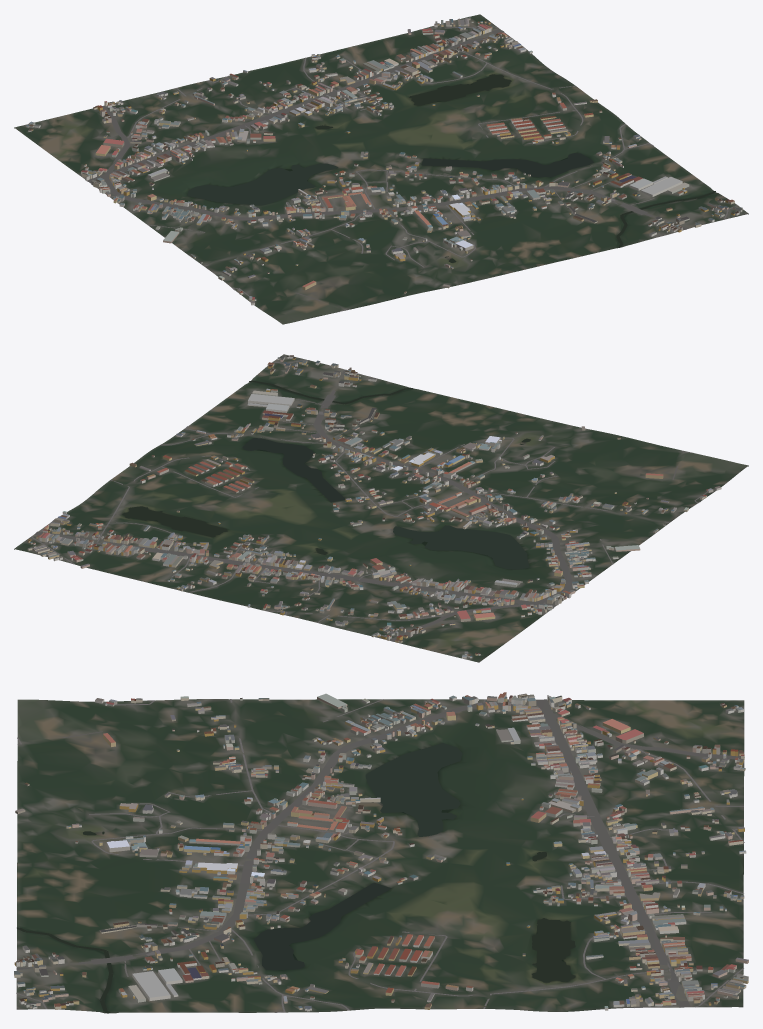
3 views of the same model, one above another, from view 1: azimuth 30°, elevation 25°; view 2: azimuth 150°, elevation 25°; view 3: azimuth 270°, elevation 25° (orthographic). The views are drawn at different scales.
Parts seen in each view (by area): view 1: ground, buildings, water, roads; view 2: ground, buildings, water, roads; view 3: ground, buildings, water, roads.
Boxes of the visible parts, x1,y1,x2,y2 form: ground: [14, 14, 748, 324]; buildings: [26, 16, 742, 305]; water: [187, 74, 715, 262]; roads: [86, 26, 737, 311]; ground: [14, 354, 748, 662]; buildings: [27, 355, 721, 658]; water: [122, 380, 530, 569]; roads: [31, 360, 707, 641]; ground: [16, 699, 744, 1013]; buildings: [14, 692, 748, 1011]; water: [17, 743, 575, 1013]; roads: [16, 699, 744, 1012].
Size of the model in its own units: 1422 by 32.57 by 1418.
